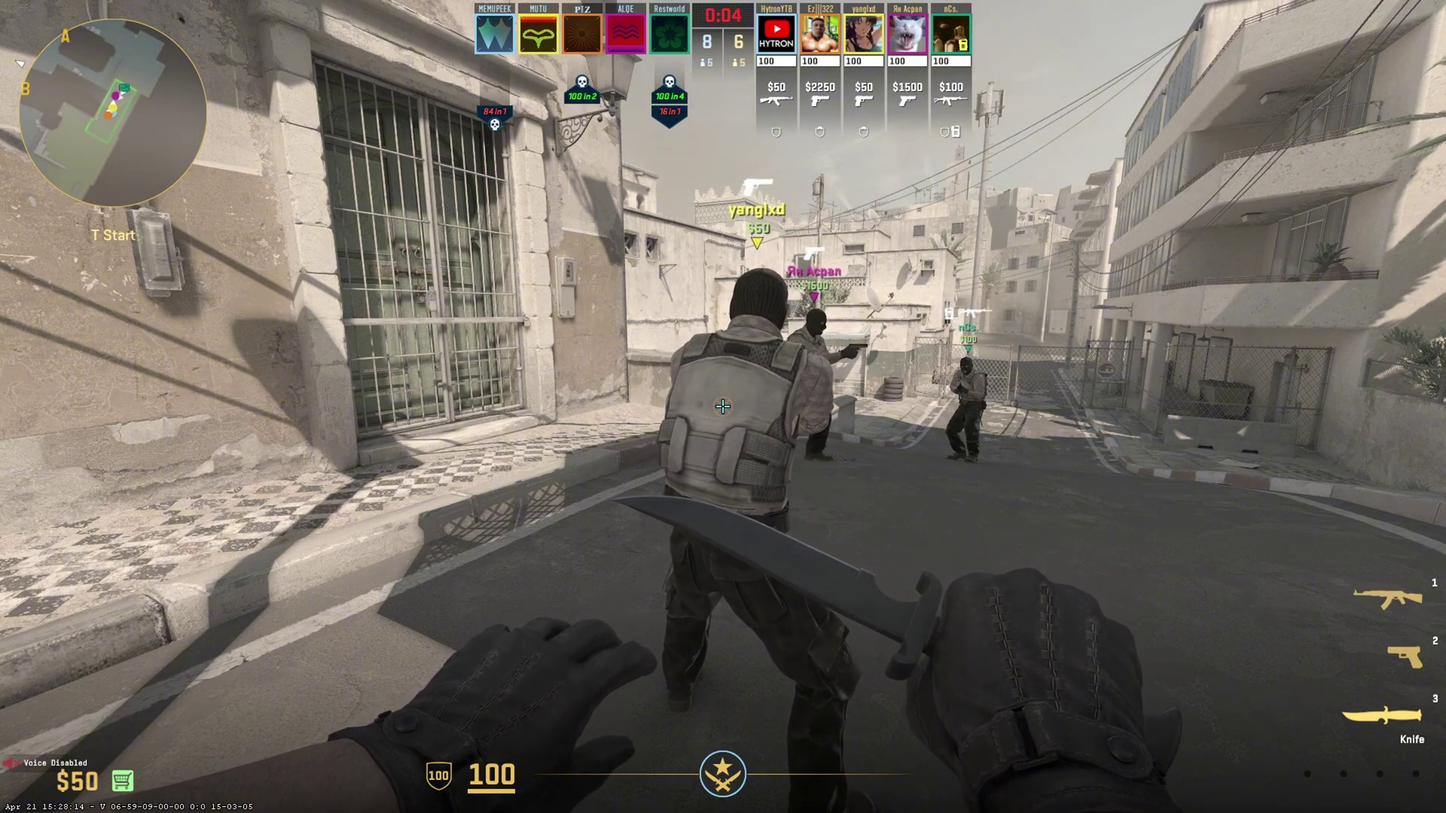Terrorist: (660, 267, 798, 802), (803, 309, 838, 457), (947, 357, 986, 461)
